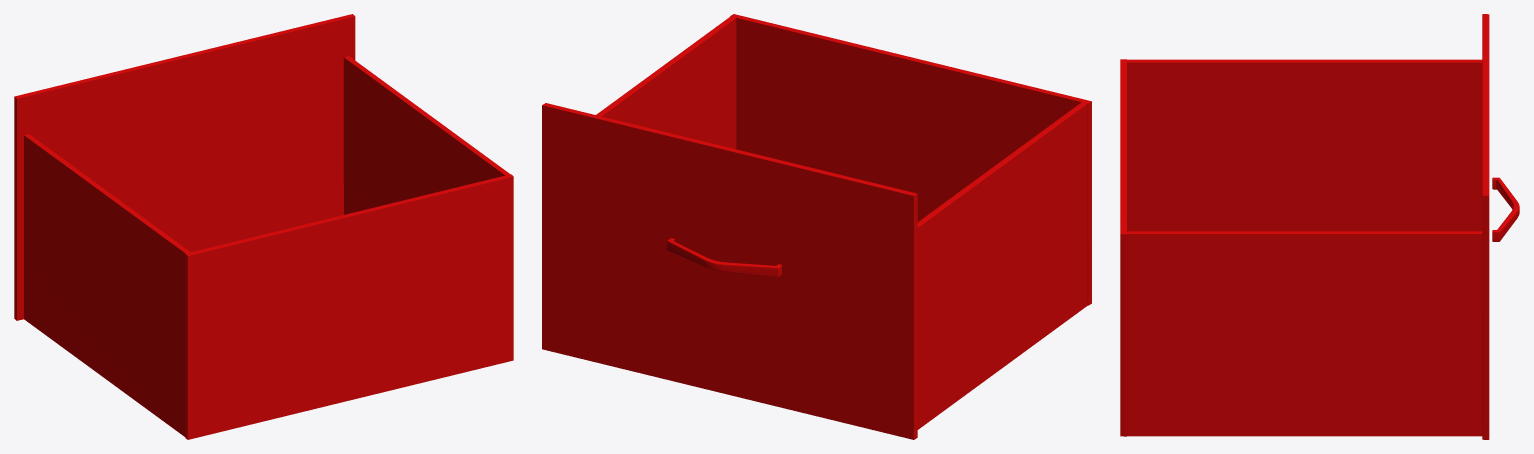
Rendered from Table_4_1.fbx.
3 renders of one model, left to right at view 1: azimuth 30°, elevation 25°; view 2: azimuth 150°, elevation 25°; view 3: azimuth 270°, elevation 25°, orthographic. The views are drawn at different scales.
Visible parts, largest first — view 1: L28:polySurface1324; view 2: L28:polySurface1324; view 3: L28:polySurface1324.
Part boxes in pixels (<box>): L28:polySurface1324: <box>14,14,513,439</box>; L28:polySurface1324: <box>542,14,1091,439</box>; L28:polySurface1324: <box>1120,14,1519,439</box>.
Bounding box in the file's own units: 63.31 × 39.67 × 58.78.
